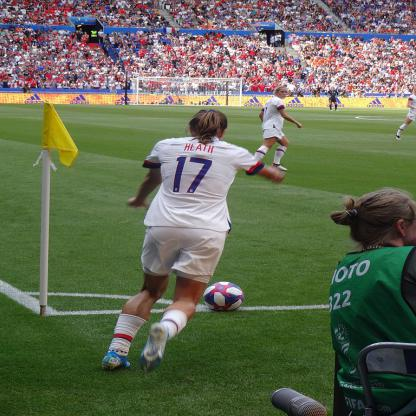corner kick: (20, 83, 291, 394)
